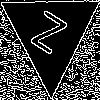Z: (25, 9, 68, 64)
